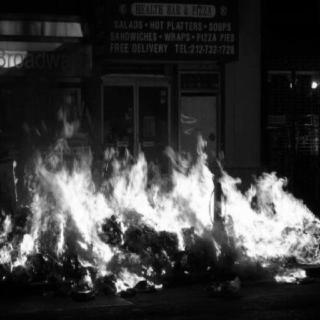Fire: (9, 102, 318, 296)
